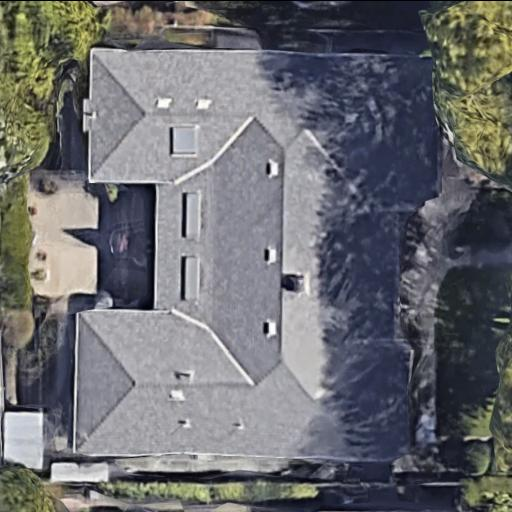TreeShading-Slope-Roof: (76, 46, 442, 466)
